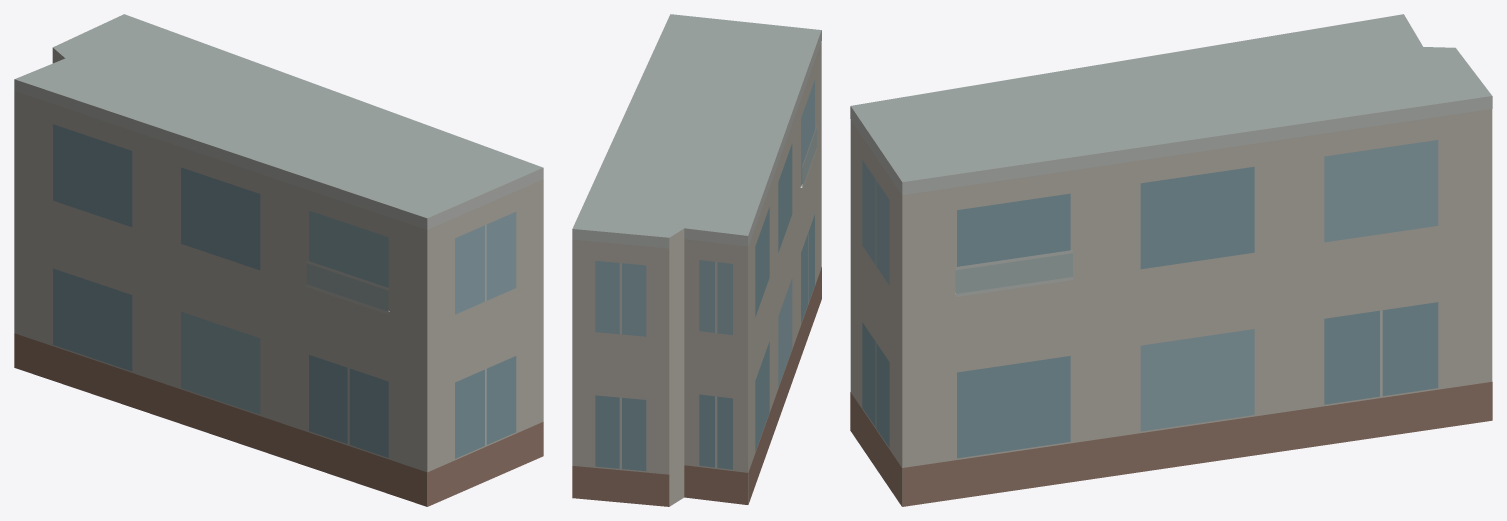
Rendered from survey-upis-32513867.glb.
3 renders of one model, left to right at view 1: azimuth 30°, elevation 25°; view 2: azimuth 150°, elevation 25°; view 3: azimuth 270°, elevation 25°, orthographic. The views are drawn at different scales.
Visible parts, largest first — view 1: survey-upis-32513867.tmp; view 2: survey-upis-32513867.tmp; view 3: survey-upis-32513867.tmp.
Part boxes in pixels (x1=…): survey-upis-32513867.tmp: x1=14, y1=14, x2=543, y2=506; survey-upis-32513867.tmp: x1=572, y1=14, x2=821, y2=506; survey-upis-32513867.tmp: x1=850, y1=14, x2=1492, y2=506.
Bounding box in the file's own units: 6.79 × 6.1 × 10.94.
